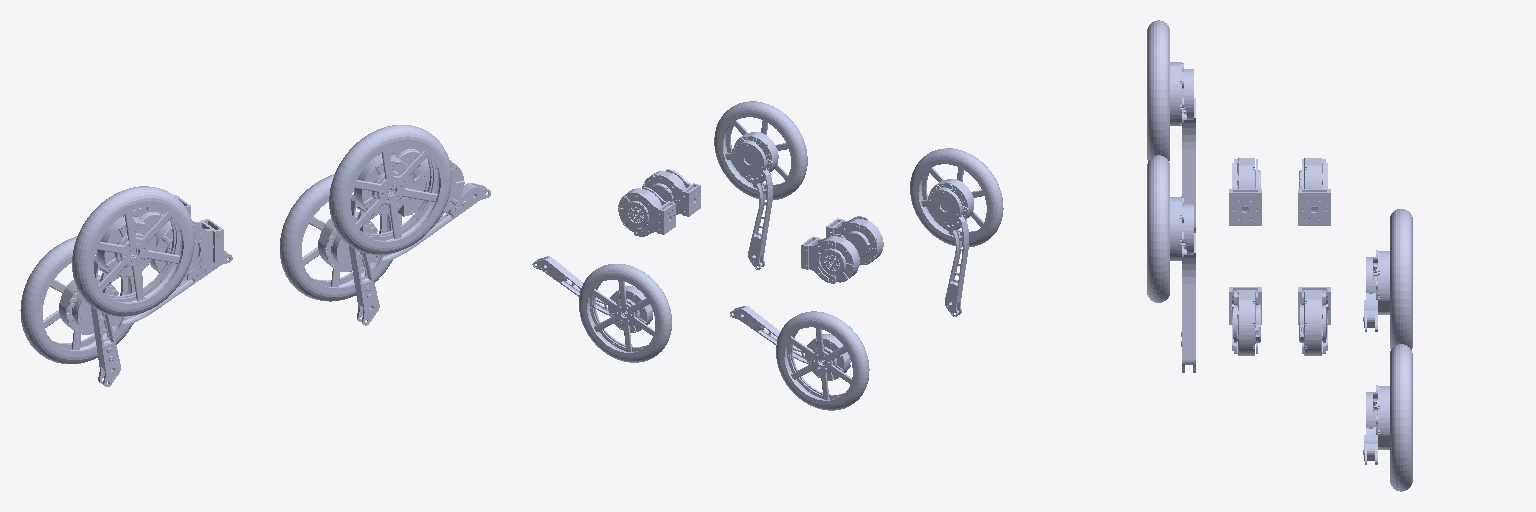
URDF robot description (hust_w):
<?xml version='1.0' encoding='utf-8'?>
<robot name="hust_w">
  <link name="trunk">
    <inertial>
      <origin xyz="-0.000357064076767556 4.67199672411368E-05 0.0579940292431013" rpy="0 0 0" />
      <mass value="1.41987576379889" />
      <inertia ixx="0.00262555258556739" ixy="1.0747284577625E-06" ixz="7.56752694435719E-07" iyy="0.00318157324976375" iyz="5.76243475834301E-08" izz="0.00400990420263568" />
    </inertial>
    <visual>
      <origin xyz="0 0 0" rpy="0 0 0" />
      <geometry>
        <mesh filename="../meshes/trunk.STL" />
      </geometry>
      <material name="">
        <color rgba="0.792156862745098 0.819607843137255 0.933333333333333 1" />
      </material>
    </visual>
    <collision>
      <origin xyz="0 -2.30968e-07 0.0820488" rpy="0 0 0" />
      <geometry>
        <box size="0.3128 0.196909 0.15649" />
      </geometry>
    </collision>
  </link>
  <link name="FR_HIP">
    <inertial>
      <origin xyz="0.0576954657331797 -0.000255572963426778 7.63322599394919E-05" rpy="0 0 0" />
      <mass value="0.249083833338139" />
      <inertia ixx="0.000156060782713603" ixy="-9.88293977826267E-08" ixz="3.62934761193537E-07" iyy="0.000258233849338492" iyz="3.06351599133377E-08" izz="0.000143369682825667" />
    </inertial>
    <visual>
      <origin xyz="0 0 0" rpy="0 0 0" />
      <geometry>
        <mesh filename="../meshes/FR_HIP.STL" />
      </geometry>
      <material name="">
        <color rgba="0.792156862745098 0.819607843137255 0.933333333333333 1" />
      </material>
    </visual>
    <collision>
      <origin xyz="0.0561251 -1.86265e-09 0" rpy="0 0 0" />
      <geometry>
        <box size="0.0865802 0.035064 0.0719822" />
      </geometry>
    </collision>
  </link>
  <joint name="FR_HIP_JOINT" type="revolute">
    <origin xyz="0.1706 -0.052004 0.052" rpy="0 0 0" />
    <parent link="trunk" />
    <child link="FR_HIP" />
    <axis xyz="1 0 0" />
    <limit lower="-0.6674" upper="0.6674" effort="23.7" velocity="1" />
  </joint>
  <link name="FR_THIGH">
    <inertial>
      <origin xyz="-0.00122671985901923 0.0219723864131985 -0.0282038012854783" rpy="0 0 0" />
      <mass value="0.361328887328467" />
      <inertia ixx="0.000838912155137812" ixy="2.55763192834975E-08" ixz="-3.2174896848958E-05" iyy="0.00099264218961723" iyz="1.7779517075477E-07" izz="0.000176723326989953" />
    </inertial>
    <visual>
      <origin xyz="0 0 0" rpy="0 0 0" />
      <geometry>
        <mesh filename="../meshes/FR_THIGH.STL" />
      </geometry>
      <material name="">
        <color rgba="0.792156862745098 0.819607843137255 0.933333333333333 1" />
      </material>
    </visual>
    <collision>
      <origin xyz="-8.56817e-08 0.022325 -0.0935101" rpy="0 0 0" />
      <geometry>
        <box size="0.0703527 0.06678 0.205008" />
      </geometry>
    </collision>
  </link>
  <joint name="FR_THIGH_JOINT" type="revolute">
    <origin xyz="0.068 -0.08585 0" rpy="0 0 0" />
    <parent link="FR_HIP" />
    <child link="FR_THIGH" />
    <axis xyz="0 1 0" />
    <limit lower="0.131" upper="1.7017" effort="23.7" velocity="1" />
  </joint>
  <link name="FR_CALF">
    <inertial>
      <origin xyz="-0.0360901216556005 -0.00651238166794352 -0.185318800683517" rpy="0 0 0" />
      <mass value="0.290625967961709" />
      <inertia ixx="0.000348947948447938" ixy="8.43665931518861E-08" ixz="-7.59179964286234E-06" iyy="0.00047382879153495" iyz="-2.72250953482103E-06" izz="0.00014257083696874" />
    </inertial>
    <visual>
      <origin xyz="0 0 0" rpy="0 0 0" />
      <geometry>
        <mesh filename="../meshes/FR_CALF.STL" />
      </geometry>
      <material name="">
        <color rgba="0.792156862745098 0.819607843137255 0.933333333333333 1" />
      </material>
    </visual>
    <collision>
      <origin xyz="-0.0378761 -0.00685 -0.118363" rpy="0 0 0" />
      <geometry>
        <box size="0.0816943 0.039816 0.210478" />
      </geometry>
    </collision>
  </link>
  <joint name="FR_CALF_JOINT" type="revolute">
    <origin xyz="0.0033273 -0.00935 -0.21997" rpy="0 0 0" />
    <parent link="FR_THIGH" />
    <child link="FR_CALF" />
    <axis xyz="0 1 0" />
    <limit lower="1.2542" upper="2.9123" effort="23.7" velocity="1" />
  </joint>
  <link name="FR_WHEEL">
    <inertial>
      <origin xyz="-1.36077382140165E-08 -0.00131532407162577 -4.88942132892412E-08" rpy="0 0 0" />
      <mass value="0.315728401897454" />
      <inertia ixx="0.00145242968761836" ixy="-6.95251324725804E-12" ixz="-8.79344333287252E-10" iyy="0.00283202768429658" iyz="4.58253882364515E-12" izz="0.0014524321048488" />
    </inertial>
    <visual>
      <origin xyz="0 0 0" rpy="0 0 0" />
      <geometry>
        <mesh filename="../meshes/FR_WHEEL.STL" />
      </geometry>
      <material name="">
        <color rgba="0.792156862745098 0.819607843137255 0.933333333333333 1" />
      </material>
    </visual>
    <collision>
      <origin xyz="0 -0.000754504 -3.72529e-09" rpy="1.570796 0 0" />
      <geometry>
        <cylinder radius="0.111049" length="0.035" />
      </geometry>
    </collision>
  </link>
  <joint name="FR_WHEEL_JOINT" type="revolute">
    <origin xyz="-0.045654 -0.0345 -0.21557" rpy="0 0 0" />
    <parent link="FR_CALF" />
    <child link="FR_WHEEL" />
    <axis xyz="0 -1 0" />
    <limit effort="23.7" velocity="30.1" lower="-999999" upper="999999" />
  </joint>
  <link name="FL_HIP">
    <inertial>
      <origin xyz="0.0576954657331795 0.000255572963426716 -7.63322599393809E-05" rpy="0 0 0" />
      <mass value="0.24908383333814" />
      <inertia ixx="0.000156060782713603" ixy="9.88293977824435E-08" ixz="-3.62934761193507E-07" iyy="0.000258233849338493" iyz="3.06351599145667E-08" izz="0.000143369682825668" />
    </inertial>
    <visual>
      <origin xyz="0 0 0" rpy="0 0 0" />
      <geometry>
        <mesh filename="../meshes/FL_HIP.STL" />
      </geometry>
      <material name="">
        <color rgba="0.792156862745098 0.819607843137255 0.933333333333333 1" />
      </material>
    </visual>
    <collision>
      <origin xyz="0.0561251 1.86265e-09 0" rpy="0 0 0" />
      <geometry>
        <box size="0.0865802 0.035064 0.0719822" />
      </geometry>
    </collision>
  </link>
  <joint name="FL_HIP_JOINT" type="revolute">
    <origin xyz="0.1706 0.051996 0.052" rpy="0 0 0" />
    <parent link="trunk" />
    <child link="FL_HIP" />
    <axis xyz="1 0 0" />
    <limit lower="-0.6674" upper="0.6674" effort="23.7" velocity="1" />
  </joint>
  <link name="FL_THIGH">
    <inertial>
      <origin xyz="-0.00191396013706477 -0.0221317561003089 -0.0280140800557552" rpy="0 0 0" />
      <mass value="0.360815354506119" />
      <inertia ixx="0.000836306305717516" ixy="2.59892174899626E-07" ixz="-1.82872451997039E-05" iyy="0.000990260994080038" iyz="-1.34443640458265E-06" izz="0.000176921426579907" />
    </inertial>
    <visual>
      <origin xyz="0 0 0" rpy="0 0 0" />
      <geometry>
        <mesh filename="../meshes/FL_THIGH.STL" />
      </geometry>
      <material name="">
        <color rgba="0.792156862745098 0.819607843137255 0.933333333333333 1" />
      </material>
    </visual>
    <collision>
      <origin xyz="-5.43892e-07 -0.021525 -0.0934947" rpy="0 0 0" />
      <geometry>
        <box size="0.0703568 0.067932 0.204989" />
      </geometry>
    </collision>
  </link>
  <joint name="FL_THIGH_JOINT" type="revolute">
    <origin xyz="0.068001 0.08585 0" rpy="0 0 0" />
    <parent link="FL_HIP" />
    <child link="FL_THIGH" />
    <axis xyz="0 -1 0" />
    <limit lower="0.131" upper="1.7017" effort="23.7" velocity="1" />
  </joint>
  <link name="FL_CALF">
    <inertial>
      <origin xyz="-0.0352105886700891 0.00654370931589909 -0.185458892740253" rpy="0 0 0" />
      <mass value="0.290625972422635" />
      <inertia ixx="0.000349555080717427" ixy="-1.58763598305842E-07" ixz="-6.41756294194246E-06" iyy="0.000473828791726227" iyz="-2.97536450176283E-06" izz="0.000141963704897137" />
    </inertial>
    <visual>
      <origin xyz="0 0 0" rpy="0 0 0" />
      <geometry>
        <mesh filename="../meshes/FL_CALF.STL" />
      </geometry>
      <material name="">
        <color rgba="0.792156862745098 0.819607843137255 0.933333333333333 1" />
      </material>
    </visual>
    <collision>
      <origin xyz="-0.0373918 0.006475 -0.118454" rpy="0 0 0" />
      <geometry>
        <box size="0.0808496 0.040428 0.210688" />
      </geometry>
    </collision>
  </link>
  <joint name="FL_CALF_JOINT" type="revolute">
    <origin xyz="0.0044295 0.00935 -0.21996" rpy="0 0 0" />
    <parent link="FL_THIGH" />
    <child link="FL_CALF" />
    <axis xyz="0 1 0" />
    <limit lower="1.2542" upper="2.9123" effort="23.7" velocity="1" />
  </joint>
  <link name="FL_WHEEL">
    <inertial>
      <origin xyz="-1.36892345237172E-08 0.00131532406736298 4.90024412158618E-08" rpy="0 0 0" />
      <mass value="0.315728400075648" />
      <inertia ixx="0.00145242967758856" ixy="6.94260327214955E-12" ixz="8.79553093282092E-10" iyy="0.00283202767376884" iyz="4.75236003735154E-12" izz="0.00145243210439279" />
    </inertial>
    <visual>
      <origin xyz="0 0 0" rpy="0 0 0" />
      <geometry>
        <mesh filename="../meshes/FL_WHEEL.STL" />
      </geometry>
      <material name="">
        <color rgba="0.792156862745098 0.819607843137255 0.933333333333333 1" />
      </material>
    </visual>
    <collision>
      <origin xyz="0 0.000754504 3.72529e-09" rpy="1.570796 0 0" />
      <geometry>
        <cylinder radius="0.111049" length="0.035" />
      </geometry>
    </collision>
  </link>
  <joint name="FL_WHEEL_JOINT" type="revolute">
    <origin xyz="-0.044573 0.03455 -0.2158" rpy="0 0 0" />
    <parent link="FL_CALF" />
    <child link="FL_WHEEL" />
    <axis xyz="0 1 0" />
    <limit effort="23.7" velocity="30.1" lower="-999999" upper="999999" />
  </joint>
  <link name="LR_HIP">
    <inertial>
      <origin xyz="-0.0576954657331759 -0.00025557296342299 -7.63322599434194E-05" rpy="0 0 0" />
      <mass value="0.249083833338179" />
      <inertia ixx="0.000156060782713626" ixy="9.88293977868374E-08" ixz="3.62934761223618E-07" iyy="0.00025823384933854" iyz="-3.06351599145889E-08" izz="0.000143369682825692" />
    </inertial>
    <visual>
      <origin xyz="0 0 0" rpy="0 0 0" />
      <geometry>
        <mesh filename="../meshes/LR_HIP.STL" />
      </geometry>
      <material name="">
        <color rgba="0.792156862745098 0.819607843137255 0.933333333333333 1" />
      </material>
    </visual>
    <collision>
      <origin xyz="-0.0561251 -1.86265e-09 0" rpy="0 0 0" />
      <geometry>
        <box size="0.0865802 0.035064 0.0719822" />
      </geometry>
    </collision>
  </link>
  <joint name="LR_HIP_JOINT" type="revolute">
    <origin xyz="-0.1706 -0.052004 0.052" rpy="0 0 0" />
    <parent link="trunk" />
    <child link="LR_HIP" />
    <axis xyz="-1 0 0" />
    <limit lower="-0.6674" upper="0.6674" effort="23.7" velocity="1" />
  </joint>
  <link name="LR_THIGH">
    <inertial>
      <origin xyz="-0.00155406557902482 0.0219723863926515 -0.0281876587914364" rpy="0 0 0" />
      <mass value="0.36132888820686" />
      <inertia ixx="0.000838075906172735" ixy="2.76390341417267E-08" ixz="-3.98532953026499E-05" iyy="0.000992642195081507" iyz="1.77487236203872E-07" izz="0.000177559581630244" />
    </inertial>
    <visual>
      <origin xyz="0 0 0" rpy="0 0 0" />
      <geometry>
        <mesh filename="../meshes/LR_THIGH.STL" />
      </geometry>
      <material name="">
        <color rgba="0.792156862745098 0.819607843137255 0.933333333333333 1" />
      </material>
    </visual>
    <collision>
      <origin xyz="-8.00937e-08 0.022325 -0.0935374" rpy="0 0 0" />
      <geometry>
        <box size="0.0703363 0.06678 0.205031" />
      </geometry>
    </collision>
  </link>
  <joint name="LR_THIGH_JOINT" type="revolute">
    <origin xyz="-0.068 -0.08585 0" rpy="0 0 0" />
    <parent link="LR_HIP" />
    <child link="LR_THIGH" />
    <axis xyz="0 1 0" />
    <limit lower="0.131" upper="1.7017" effort="23.7" velocity="1" />
  </joint>
  <link name="LR_CALF">
    <inertial>
      <origin xyz="-0.0382391214705943 -0.0065123816632969 -0.184887328832446" rpy="0 0 0" />
      <mass value="0.290625968091873" />
      <inertia ixx="0.000348743873600948" ixy="5.27543249095152E-08" ixz="-9.98549715357778E-06" iyy="0.000473828791535009" iyz="-2.72330550442755E-06" izz="0.000142774911816317" />
    </inertial>
    <visual>
      <origin xyz="0 0 0" rpy="0 0 0" />
      <geometry>
        <mesh filename="../meshes/LR_CALF.STL" />
      </geometry>
      <material name="">
        <color rgba="0.792156862745098 0.819607843137255 0.933333333333333 1" />
      </material>
    </visual>
    <collision>
      <origin xyz="-0.0389898 -0.00685 -0.118142" rpy="0 0 0" />
      <geometry>
        <box size="0.0836498 0.039816 0.209973" />
      </geometry>
    </collision>
  </link>
  <joint name="LR_CALF_JOINT" type="revolute">
    <origin xyz="0.00077326 -0.00935 -0.22" rpy="0 0 0" />
    <parent link="LR_THIGH" />
    <child link="LR_CALF" />
    <axis xyz="0 1 0" />
    <limit lower="1.2542" upper="2.9123" effort="23.7" velocity="1" />
  </joint>
  <link name="LR_WHEEL">
    <inertial>
      <origin xyz="-1.3523124509085E-08 -0.00131532406866905 -4.86834451085549E-08" rpy="0 0 0" />
      <mass value="0.315728401289818" />
      <inertia ixx="0.00145242968272352" ixy="-6.92888009098624E-12" ixz="-8.81701068480554E-10" iyy="0.0028320276808355" iyz="4.72196111195263E-12" izz="0.00145243210627852" />
    </inertial>
    <visual>
      <origin xyz="0 0 0" rpy="0 0 0" />
      <geometry>
        <mesh filename="../meshes/LR_WHEEL.STL" />
      </geometry>
      <material name="">
        <color rgba="0.792156862745098 0.819607843137255 0.933333333333333 1" />
      </material>
    </visual>
    <collision>
      <origin xyz="0 -0.000754504 -3.72529e-09" rpy="1.570796 0 0" />
      <geometry>
        <cylinder radius="0.111049" length="0.035" />
      </geometry>
    </collision>
  </link>
  <joint name="LR_WHEEL_JOINT" type="revolute">
    <origin xyz="-0.048154 -0.0345 -0.21503" rpy="0 0 0" />
    <parent link="LR_CALF" />
    <child link="LR_WHEEL" />
    <axis xyz="0 -1 0" />
    <limit effort="23.7" velocity="30.1" lower="-999999" upper="999999" />
  </joint>
  <link name="LL_HIP">
    <inertial>
      <origin xyz="-0.0576954657331797 0.000255572963426841 7.63322599393462E-05" rpy="0 0 0" />
      <mass value="0.249083833338139" />
      <inertia ixx="0.000156060782713602" ixy="-9.88293977823191E-08" ixz="-3.62934761193305E-07" iyy="0.000258233849338492" iyz="-3.06351599122387E-08" izz="0.000143369682825667" />
    </inertial>
    <visual>
      <origin xyz="0 0 0" rpy="0 0 0" />
      <geometry>
        <mesh filename="../meshes/LL_HIP.STL" />
      </geometry>
      <material name="">
        <color rgba="0.792156862745098 0.819607843137255 0.933333333333333 1" />
      </material>
    </visual>
    <collision>
      <origin xyz="-0.0561251 1.86265e-09 0" rpy="0 0 0" />
      <geometry>
        <box size="0.0865802 0.035064 0.0719822" />
      </geometry>
    </collision>
  </link>
  <joint name="LL_HIP_JOINT" type="revolute">
    <origin xyz="-0.1706 0.051996 0.052" rpy="0 0 0" />
    <parent link="trunk" />
    <child link="LL_HIP" />
    <axis xyz="-1 0 0" />
    <limit lower="-0.6674" upper="0.6674" effort="23.7" velocity="1" />
  </joint>
  <link name="LL_THIGH">
    <inertial>
      <origin xyz="-0.00235625320416719 -0.0221317723631719 -0.0279803905639209" rpy="0 0 0" />
      <mass value="0.36081466264469" />
      <inertia ixx="0.00083555961206314" ixy="2.38648886348482E-07" ixz="-2.8694382758678E-05" iyy="0.000990256516148523" iyz="-1.34856036814682E-06" izz="0.000177663628365792" />
    </inertial>
    <visual>
      <origin xyz="0 0 0" rpy="0 0 0" />
      <geometry>
        <mesh filename="../meshes/LL_THIGH.STL" />
      </geometry>
      <material name="">
        <color rgba="0.792156862745098 0.819607843137255 0.933333333333333 1" />
      </material>
    </visual>
    <collision>
      <origin xyz="-5.43892e-07 -0.021525 -0.0935361" rpy="0 0 0" />
      <geometry>
        <box size="0.0703378 0.067932 0.20503" />
      </geometry>
    </collision>
  </link>
  <joint name="LL_THIGH_JOINT" type="revolute">
    <origin xyz="-0.067999 0.08585 0" rpy="0 0 0" />
    <parent link="LL_HIP" />
    <child link="LL_THIGH" />
    <axis xyz="0 -1 0" />
    <limit lower="0.131" upper="1.7017" effort="23.7" velocity="1" />
  </joint>
  <link name="LL_CALF">
    <inertial>
      <origin xyz="-0.0381360672711591 0.00654370931701806 -0.184879492823422" rpy="0 0 0" />
      <mass value="0.290625972389076" />
      <inertia ixx="0.000349300527505485" ixy="-2.05748421816113E-07" ixz="-9.69347122283297E-06" iyy="0.000473828791704013" iyz="-2.97248465818724E-06" izz="0.000142218258086882" />
    </inertial>
    <visual>
      <origin xyz="0 0 0" rpy="0 0 0" />
      <geometry>
        <mesh filename="../meshes/LL_CALF.STL" />
      </geometry>
      <material name="">
        <color rgba="0.792156862745098 0.819607843137255 0.933333333333333 1" />
      </material>
    </visual>
    <collision>
      <origin xyz="-0.0389112 0.006475 -0.118158" rpy="0 0 0" />
      <geometry>
        <box size="0.0835115 0.040428 0.210009" />
      </geometry>
    </collision>
  </link>
  <joint name="LL_CALF_JOINT" type="revolute">
    <origin xyz="0.00095411 0.00935 -0.22" rpy="0 0 0" />
    <parent link="LL_THIGH" />
    <child link="LL_CALF" />
    <axis xyz="0 1 0" />
    <limit lower="1.2542" upper="2.9123" effort="23.7" velocity="1" />
  </joint>
  <link name="LL_WHEEL">
    <inertial>
      <origin xyz="-1.40819386151847E-08 0.00131532404626522 4.9749895647544E-08" rpy="0 0 0" />
      <mass value="0.31572839497218" />
      <inertia ixx="0.0014524296515861" ixy="6.99008288517523E-12" ixz="8.76466926170451E-10" iyy="0.00283202764483225" iyz="5.02957356662658E-12" izz="0.00145243210138593" />
    </inertial>
    <visual>
      <origin xyz="0 0 0" rpy="0 0 0" />
      <geometry>
        <mesh filename="../meshes/LL_WHEEL.STL" />
      </geometry>
      <material name="">
        <color rgba="0.792156862745098 0.819607843137255 0.933333333333333 1" />
      </material>
    </visual>
    <collision>
      <origin xyz="0 0.000754504 3.72529e-09" rpy="1.570796 0 0" />
      <geometry>
        <cylinder radius="0.111049" length="0.035" />
      </geometry>
    </collision>
  </link>
  <joint name="LL_WHEEL_JOINT" type="revolute">
    <origin xyz="-0.047977 0.03455 -0.21507" rpy="0 0 0" />
    <parent link="LL_CALF" />
    <child link="LL_WHEEL" />
    <axis xyz="0 1 0" />
    <limit effort="23.7" velocity="30.1" lower="-999999" upper="999999" />
  </joint>
</robot>

--- What the picture shows (computed from the rendered views, not written in the file) ---
The picture shows the robot from 3 angles, left to right: view 1: azimuth 30°, elevation 25°; view 2: azimuth 150°, elevation 25°; view 3: azimuth 270°, elevation 25°; orthographic projection.
Model hust_w with 17 links and 16 joints (16 revolute), rooted at trunk, posed all joints at 0 but 8 set to mid-range because 0 is outside their limits (FR_THIGH_JOINT = 0.9163, FR_CALF_JOINT = 2.08, FL_THIGH_JOINT = 0.9163, FL_CALF_JOINT = 2.08, LR_THIGH_JOINT = 0.9163, LR_CALF_JOINT = 2.08, +2 more).
Visible links, largest first — view 1: LR_WHEEL, FR_WHEEL, LL_WHEEL, FL_WHEEL, FR_CALF, LR_CALF, FL_CALF, LL_CALF, LR_HIP, FR_HIP; view 2: FL_WHEEL, LL_WHEEL, FR_WHEEL, LR_WHEEL, LR_CALF, FR_CALF, LL_HIP, FL_HIP, LL_CALF, FL_CALF, FR_HIP, LR_HIP; view 3: FR_WHEEL, FL_WHEEL, LL_WHEEL, LR_WHEEL, FR_CALF, LR_CALF, FL_HIP, FR_HIP, LL_HIP, LR_HIP, LL_CALF, FL_CALF.
Link boxes in pixels (x1,y1,x2,y2): LR_WHEEL: [72, 186, 194, 316]; FR_WHEEL: [329, 125, 451, 254]; LL_WHEEL: [20, 236, 142, 363]; FL_WHEEL: [280, 174, 401, 301]; FR_CALF: [349, 154, 413, 325]; LR_CALF: [91, 216, 155, 386]; FL_CALF: [318, 183, 490, 271]; LL_CALF: [59, 251, 232, 334]; LR_HIP: [150, 219, 223, 280]; FR_HIP: [398, 158, 464, 217]; FL_WHEEL: [579, 264, 671, 362]; LL_WHEEL: [776, 311, 869, 410]; FR_WHEEL: [714, 101, 807, 199]; LR_WHEEL: [910, 148, 1003, 246]; LR_CALF: [928, 179, 973, 316]; FR_CALF: [732, 132, 778, 269]; LL_HIP: [801, 234, 859, 283]; FL_HIP: [618, 187, 675, 236]; LL_CALF: [730, 306, 850, 380]; FL_CALF: [532, 256, 652, 332]; FR_HIP: [642, 169, 700, 216]; LR_HIP: [826, 216, 883, 264]; FR_WHEEL: [1147, 155, 1169, 302]; FL_WHEEL: [1390, 344, 1412, 491]; LL_WHEEL: [1390, 209, 1412, 349]; LR_WHEEL: [1147, 20, 1169, 160]; FR_CALF: [1170, 197, 1195, 372]; LR_CALF: [1170, 62, 1195, 232]; FL_HIP: [1298, 287, 1330, 355]; FR_HIP: [1229, 287, 1261, 355]; LL_HIP: [1298, 158, 1330, 225]; LR_HIP: [1229, 158, 1261, 225]; LL_CALF: [1363, 250, 1389, 331]; FL_CALF: [1363, 385, 1389, 464].
Size in the robot's own frame: 0.953 by 0.4 by 0.4814 metres.
Meshes: 17 distinct files referenced, 12 mesh visuals loaded (12 binary STL); not drawn: 5 (reference not matched to a file when rendering).
